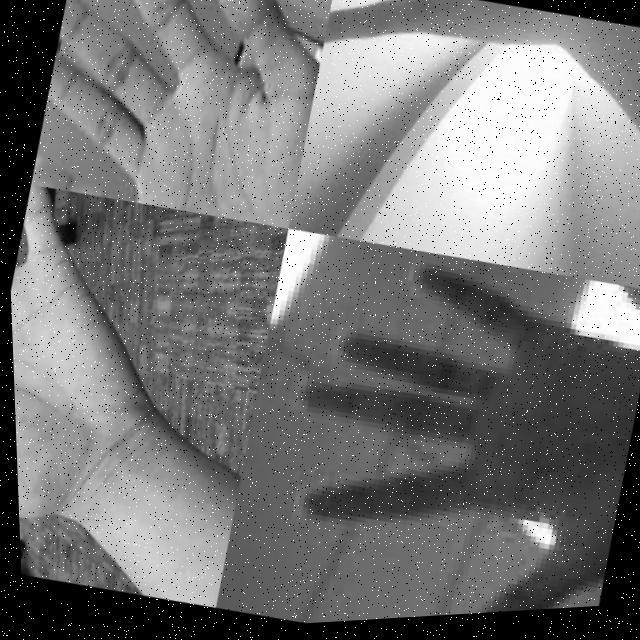no-gloves: (230, 228, 640, 630), (22, 0, 342, 243), (6, 177, 190, 563), (318, 0, 601, 113)
